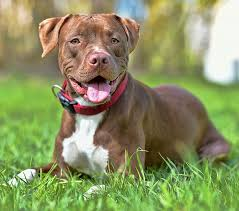Perro Pitbull: (28, 10, 153, 130)
